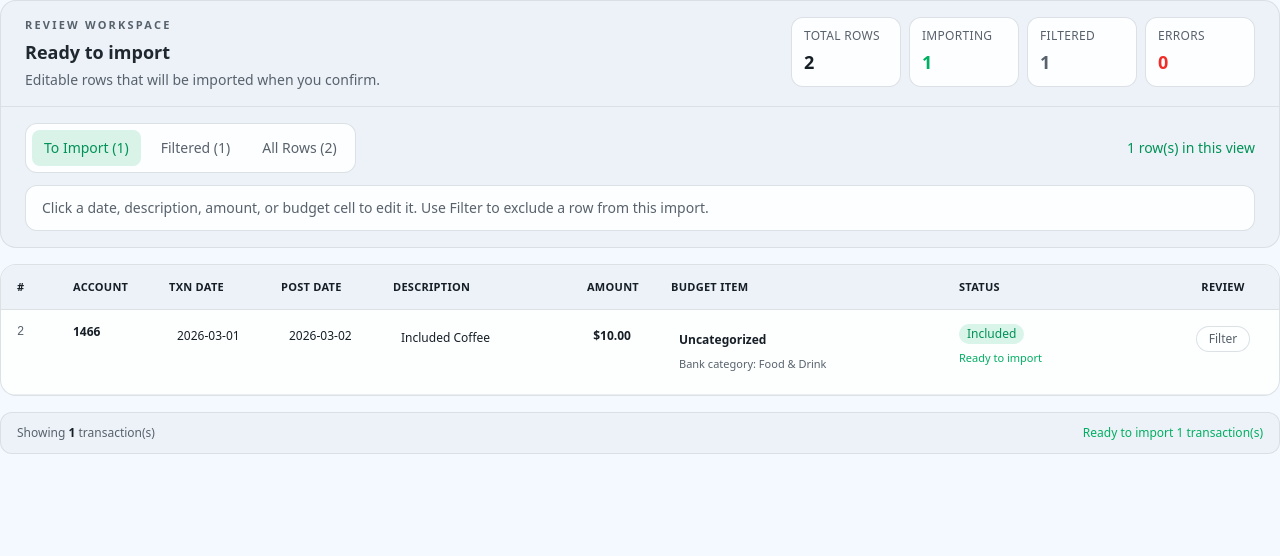
it: CsvPreviewTableEnhanced › shows the inclusion or exclusion reason in a visible status column
The width and height of the screenshot is (1280, 556).
Check: the column heading "Status" is shown, box [943, 264, 1167, 310]
Check: the text "Included" is shown, box [959, 324, 1024, 344]
Click the button "All Rows (2)" at (300, 148), box [250, 130, 349, 166]
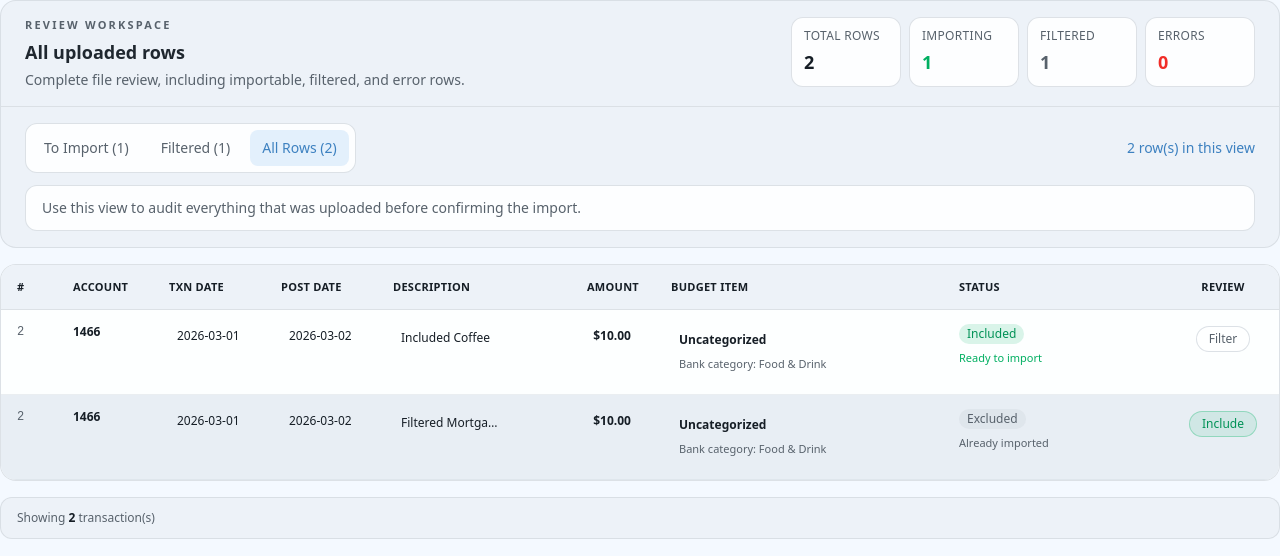
Check: the text "Excluded" is shown, box [959, 409, 1026, 429]
Check: the text "Already imported" is shown, box [959, 435, 1049, 450]
